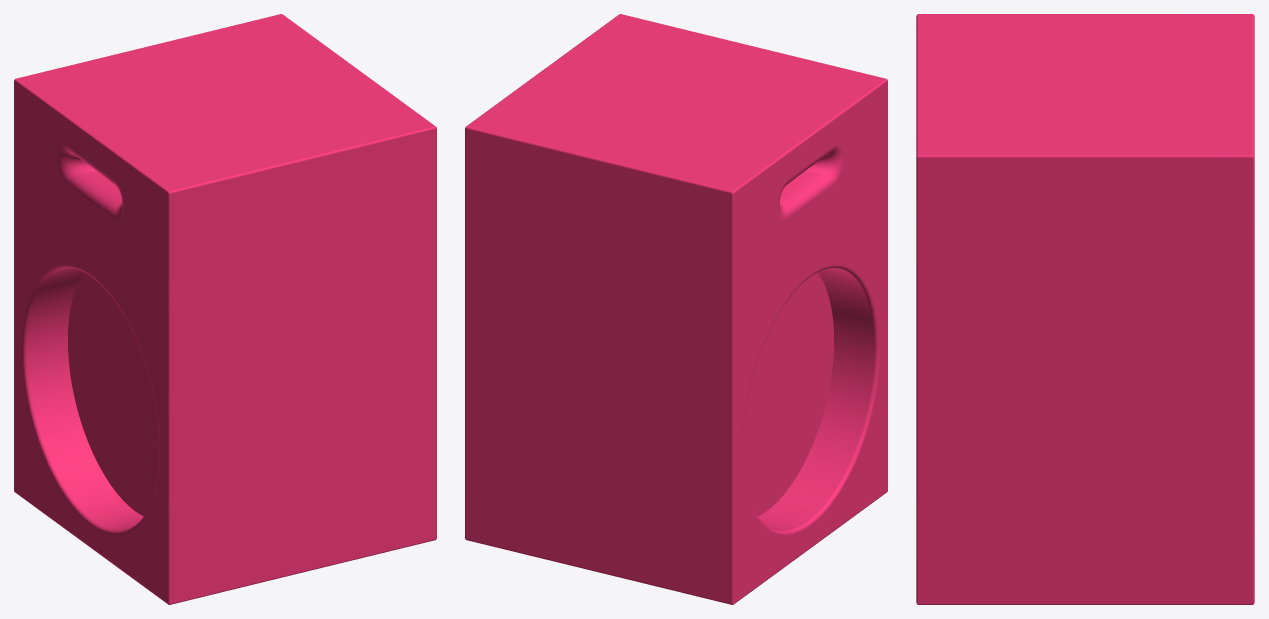
The model's file is Speaker Boxx.dae.
3 renders of one model, left to right at view 1: azimuth 30°, elevation 25°; view 2: azimuth 150°, elevation 25°; view 3: azimuth 270°, elevation 25°, orthographic. The views are drawn at different scales.
Visible parts, largest first — view 1: a17171dd-f534-4e40-87a2-de538a60aca9; view 2: a17171dd-f534-4e40-87a2-de538a60aca9; view 3: a17171dd-f534-4e40-87a2-de538a60aca9.
Boxes of the visible parts, x1=… form: a17171dd-f534-4e40-87a2-de538a60aca9: x1=14, y1=14, x2=436, y2=604; a17171dd-f534-4e40-87a2-de538a60aca9: x1=465, y1=14, x2=887, y2=604; a17171dd-f534-4e40-87a2-de538a60aca9: x1=916, y1=14, x2=1254, y2=604.
Bounding box in the file's own units: 278 × 279 × 409.
